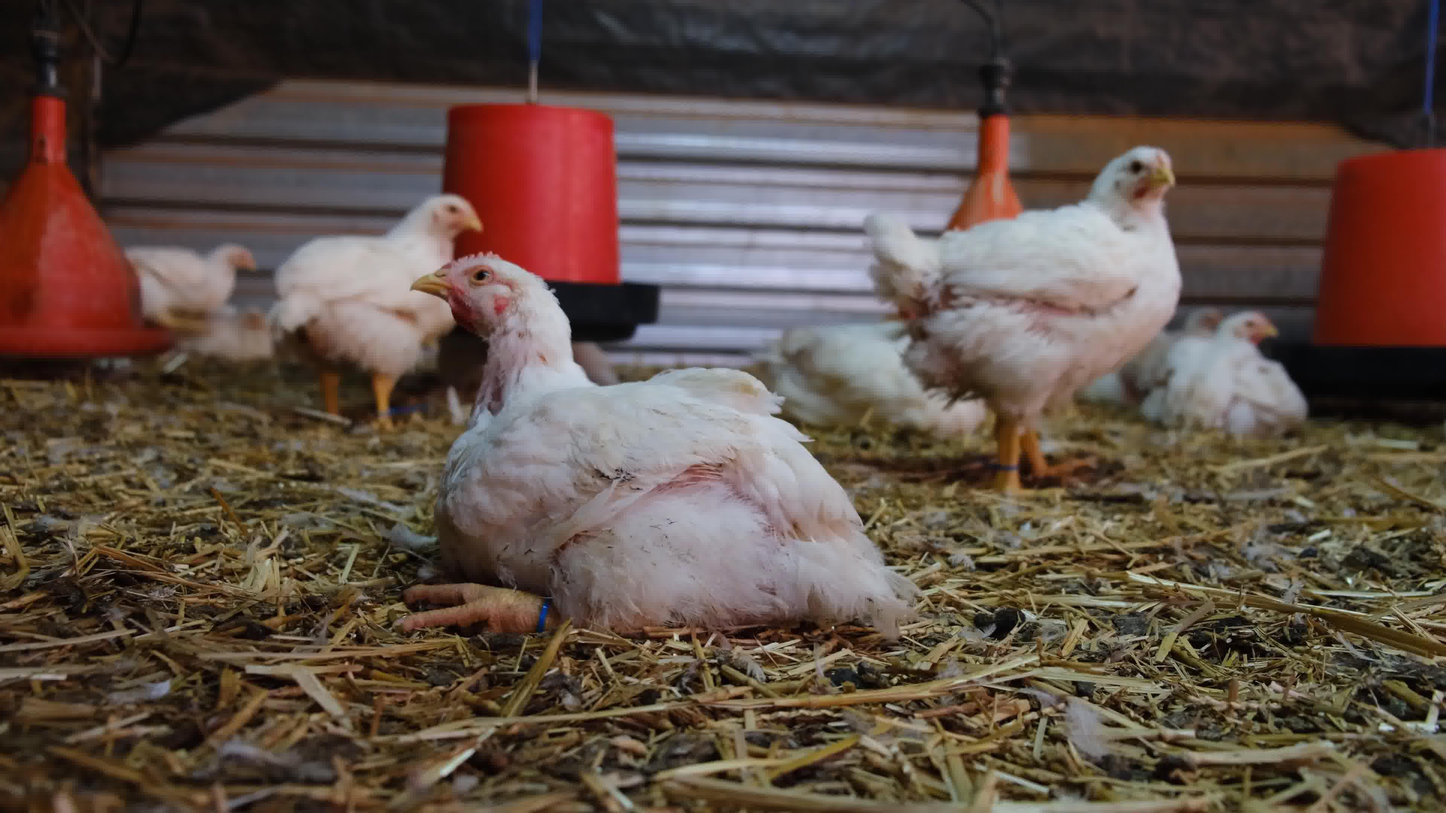AbNormal: (396, 253, 923, 641), (746, 307, 994, 431), (1156, 309, 1318, 431), (1114, 301, 1226, 401), (149, 307, 283, 387)
Normal: (870, 143, 1187, 509), (275, 192, 484, 441), (114, 241, 256, 321)
